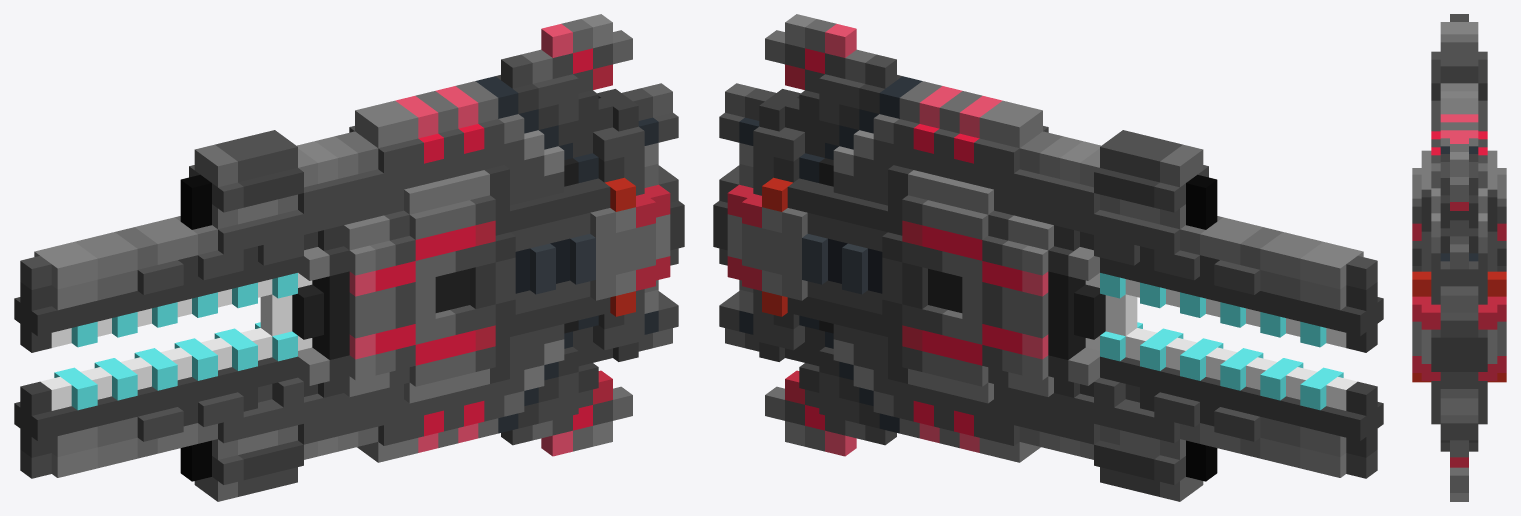
File: Emitter_9QA_Minivivi.obj
3 views of the same model, side by side, from view 1: azimuth 30°, elevation 25°; view 2: azimuth 150°, elevation 25°; view 3: azimuth 270°, elevation 25° (orthographic). The views are drawn at different scales.
Size of the model in its own units: 32 by 20 by 5.
